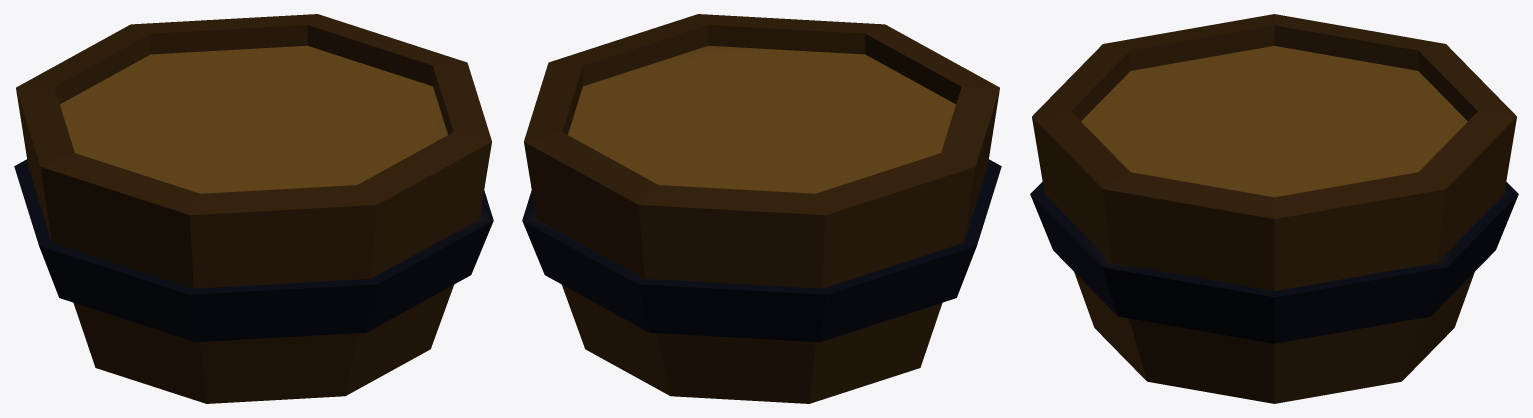
File: flower-bucket.fbx
3 renders of one model, left to right at view 1: azimuth 30°, elevation 25°; view 2: azimuth 150°, elevation 25°; view 3: azimuth 270°, elevation 25°, orthographic.
Visible parts, largest first — view 1: Flower bucket; view 2: Flower bucket; view 3: Flower bucket.
Part boxes in pixels (left/top/right/bottom): Flower bucket: left=14, top=14, right=493, bottom=403; Flower bucket: left=522, top=14, right=1001, bottom=403; Flower bucket: left=1030, top=14, right=1518, bottom=403.
Bounding box in the file's own units: 56.21 × 27.47 × 56.21.
